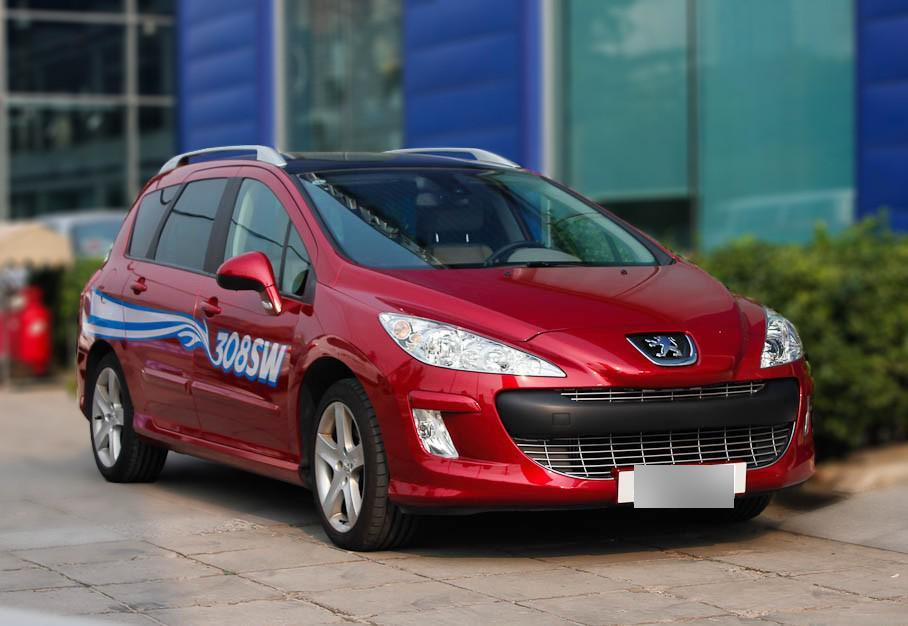Wagon: (75, 144, 815, 551)
